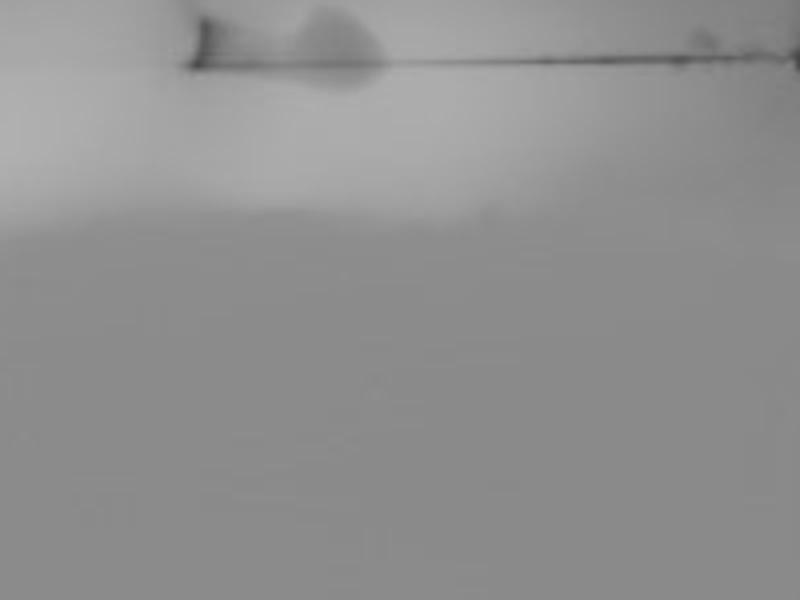defect: (288, 13, 389, 83), (687, 28, 722, 58)
